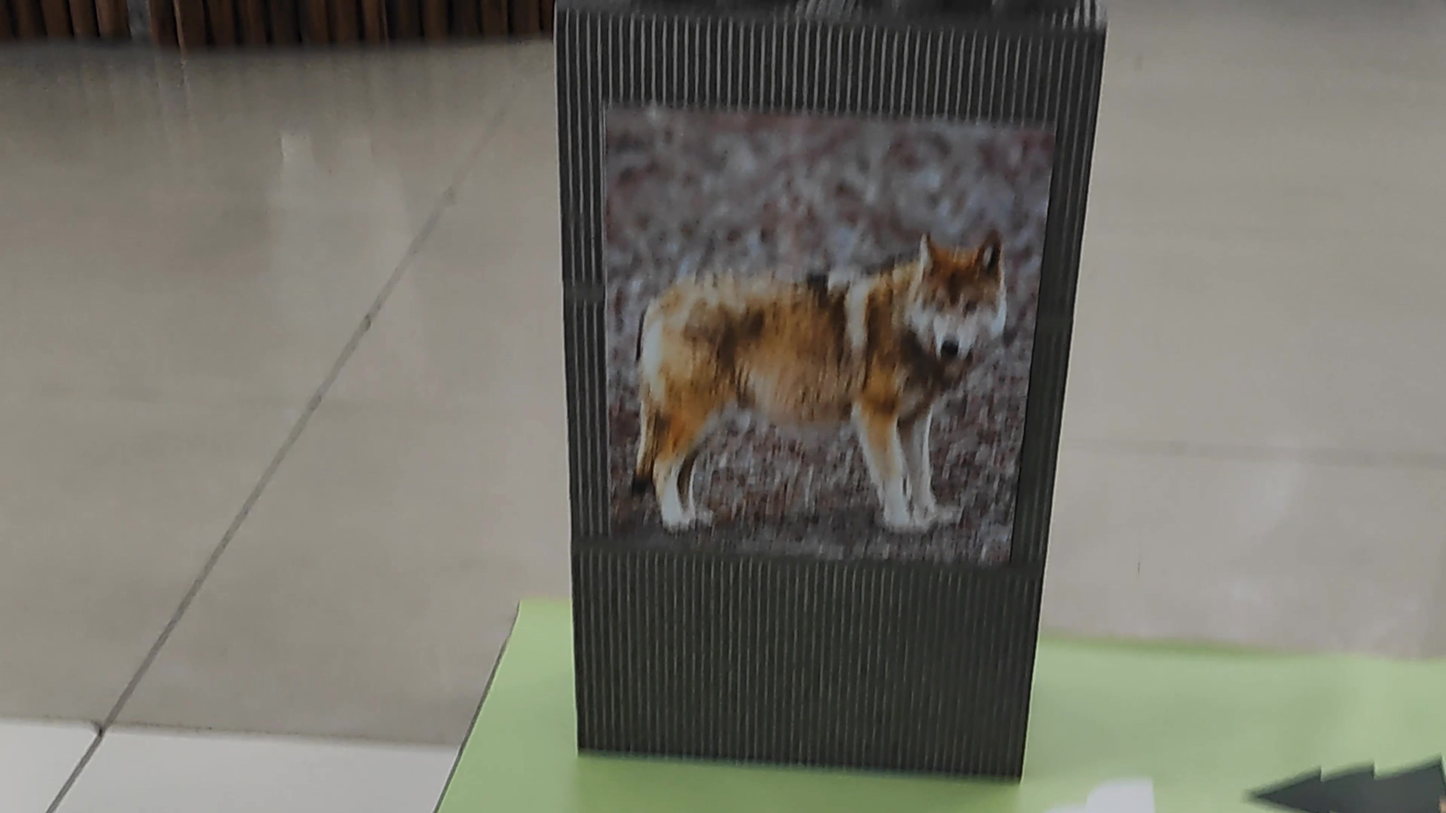wolf: (602, 222, 1017, 568)
